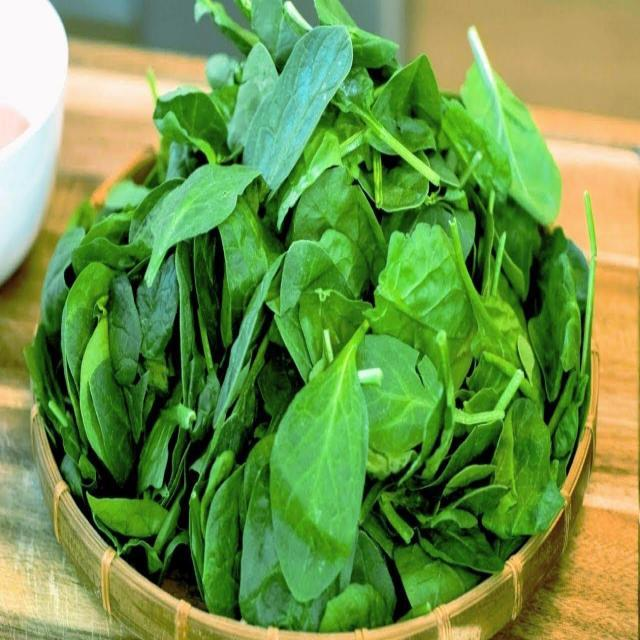Spinach: (38, 0, 601, 628)
